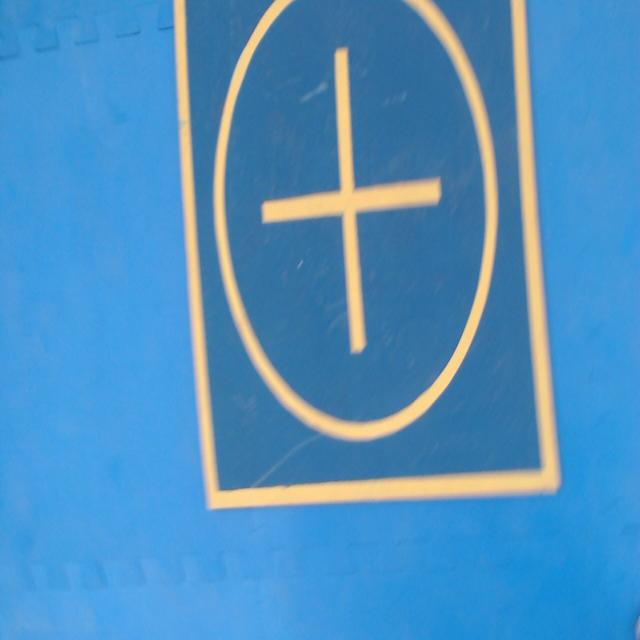base_pouso: (174, 0, 565, 510)
